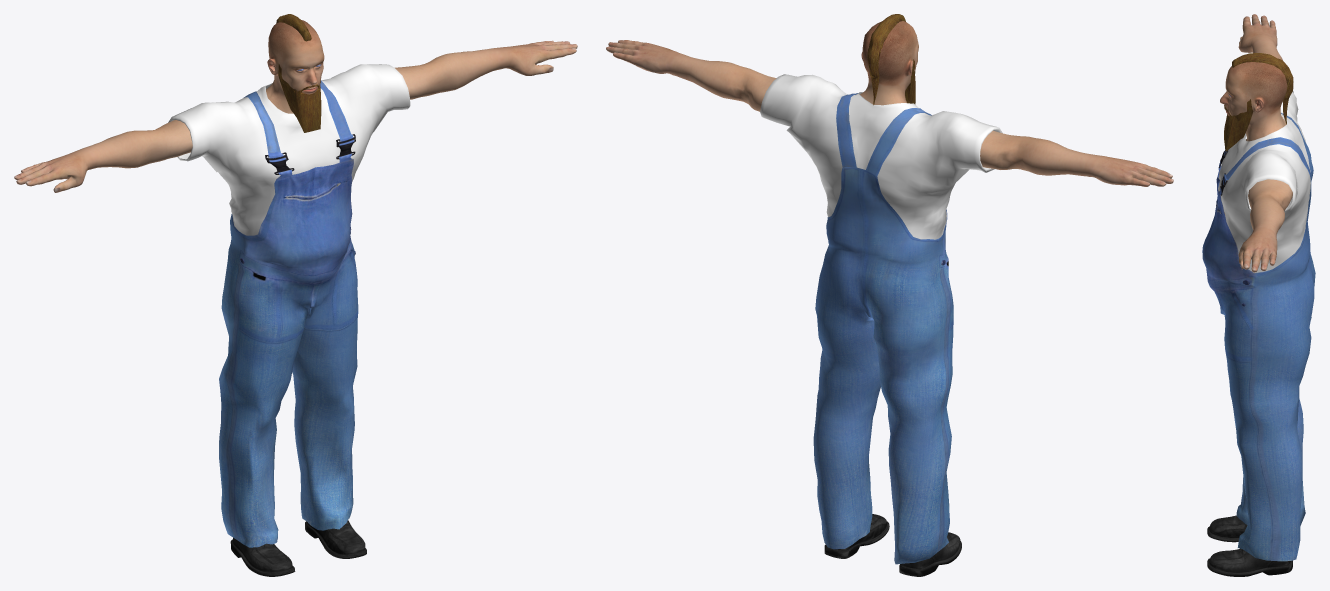
File: human.glb
3 renders of one model, left to right at view 1: azimuth 30°, elevation 25°; view 2: azimuth 150°, elevation 25°; view 3: azimuth 270°, elevation 25°, orthographic. The views are drawn at different scales.
Visible parts, largest first — view 1: male_worksuit01Mesh, male_genericMesh, shoes04Mesh, Mesh1_Blond_beard_0; view 2: male_worksuit01Mesh, male_genericMesh, shoes04Mesh, Mesh2_Blond_beard_0; view 3: male_worksuit01Mesh, male_genericMesh, shoes04Mesh, Mesh2_Blond_beard_0, Mesh1_Blond_beard_0.
Part boxes in pixels (box(x1,y1,x2,y2)): male_worksuit01Mesh: box(168, 64, 410, 547); male_genericMesh: box(14, 20, 577, 192); shoes04Mesh: box(230, 520, 366, 576); Mesh1_Blond_beard_0: box(278, 64, 321, 132); male_worksuit01Mesh: box(760, 74, 1002, 564); male_genericMesh: box(606, 21, 1173, 186); shoes04Mesh: box(824, 514, 961, 576); Mesh2_Blond_beard_0: box(867, 14, 905, 105); male_worksuit01Mesh: box(1202, 91, 1315, 561); male_genericMesh: box(1220, 14, 1292, 272); shoes04Mesh: box(1207, 515, 1292, 576); Mesh2_Blond_beard_0: box(1232, 53, 1293, 124); Mesh1_Blond_beard_0: box(1224, 99, 1253, 151).
Size of the model in its own units: 76.33 by 69.34 by 14.26.
6 materials, 6 textured.
